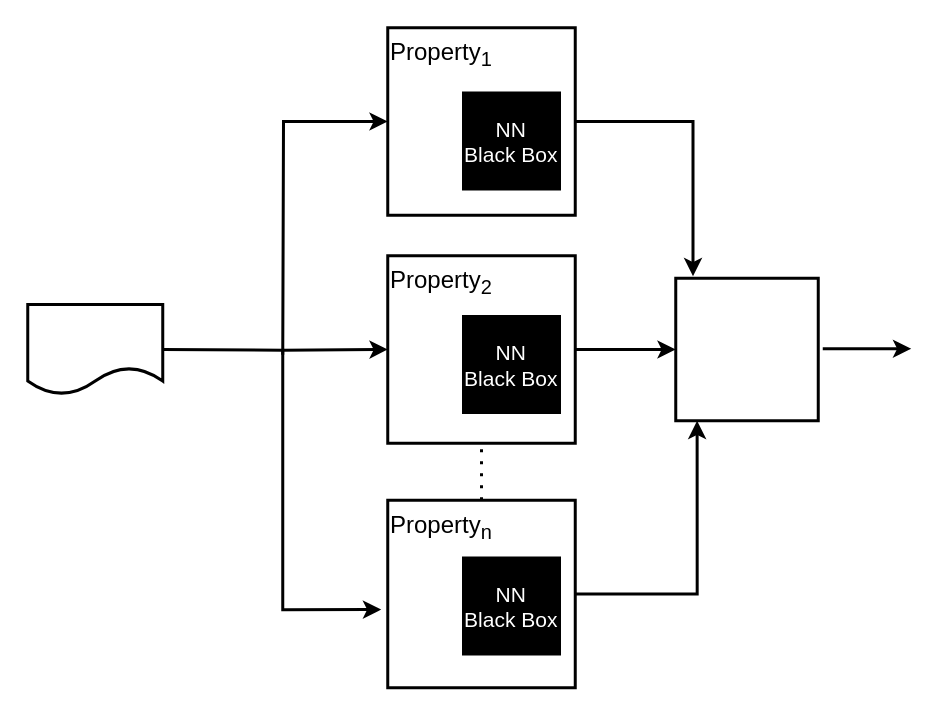
The diagram is 950 pixels wide and 714 high, and some of its shapes have lost their labels. Each missing label, with the centre of its shape:
"Input" goes at (95,348).
"Voting" goes at (746,349).
